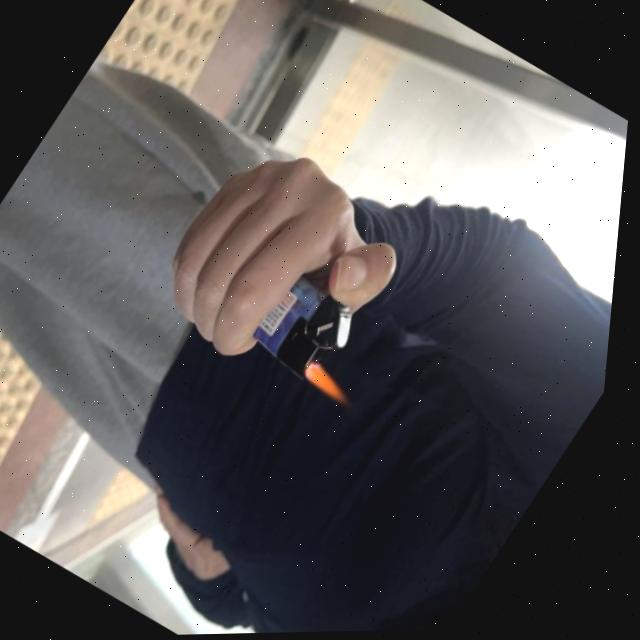Fire: (302, 360, 369, 411)
